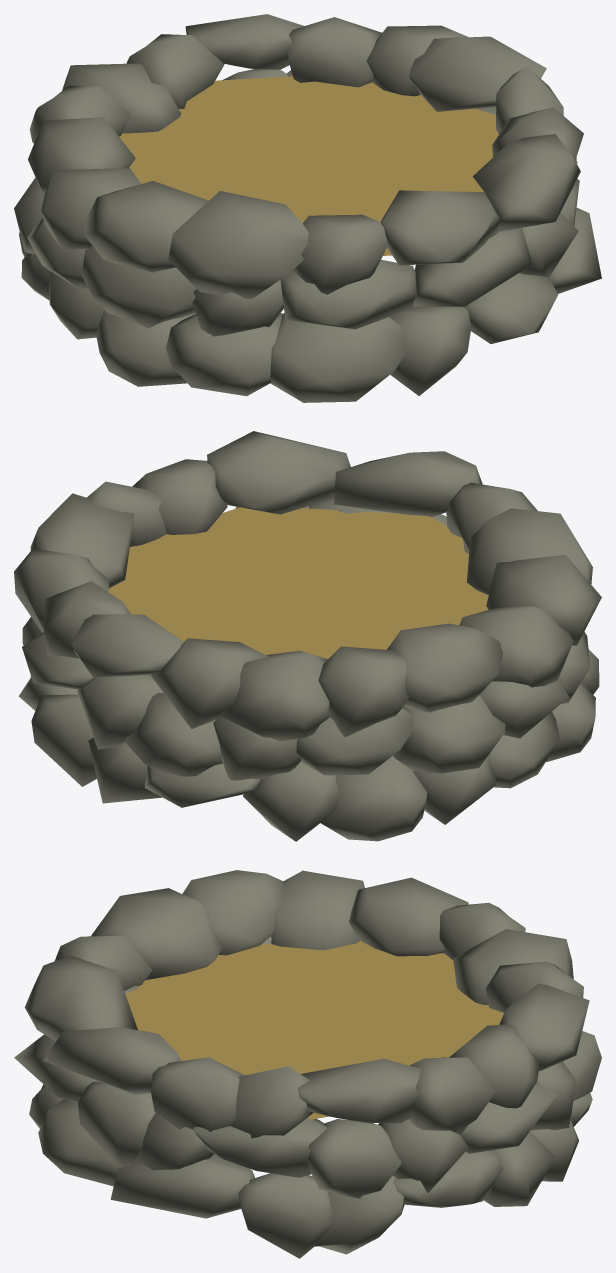
3 views of the same model, one above another, from view 1: azimuth 30°, elevation 25°; view 2: azimuth 150°, elevation 25°; view 3: azimuth 270°, elevation 25° (orthographic). The views are drawn at different scales.
Parts seen in each view (by area): view 1: SM_B_07; view 2: SM_B_07; view 3: SM_B_07.
Part boxes in pixels (bbox=[...]): SM_B_07: bbox=[14, 14, 601, 402]; SM_B_07: bbox=[14, 431, 601, 841]; SM_B_07: bbox=[14, 870, 601, 1258].
Bounding box in the file's own units: 304 × 115 × 312.
